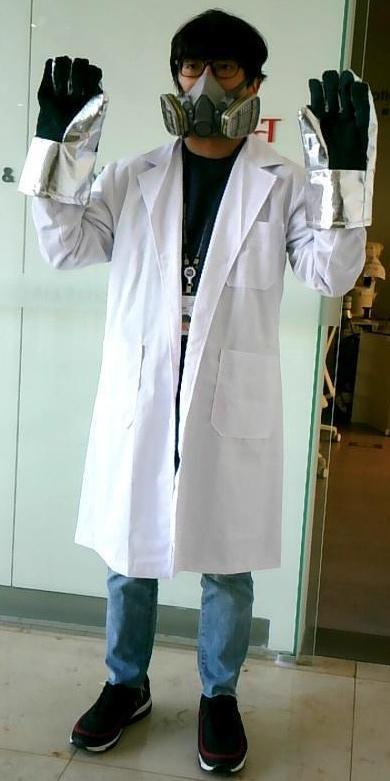lab_coat: (61, 193, 312, 555)
